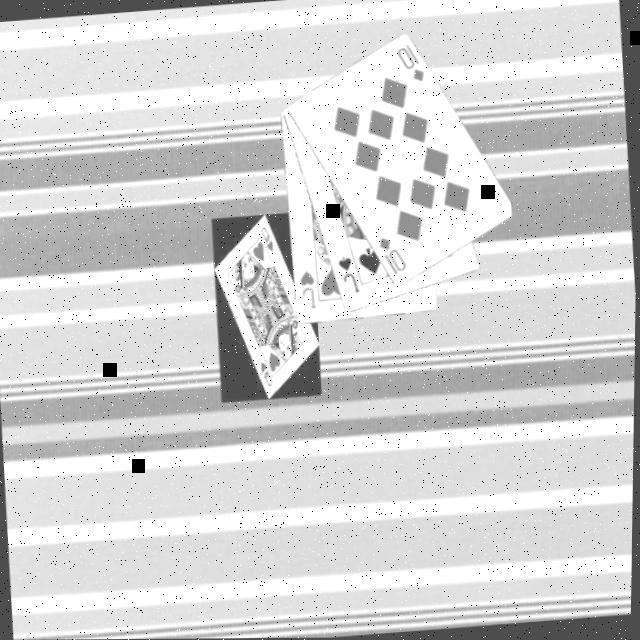10D: (373, 232, 409, 278), (390, 39, 426, 85)
JH: (294, 266, 318, 311)
JS: (332, 251, 362, 297)
